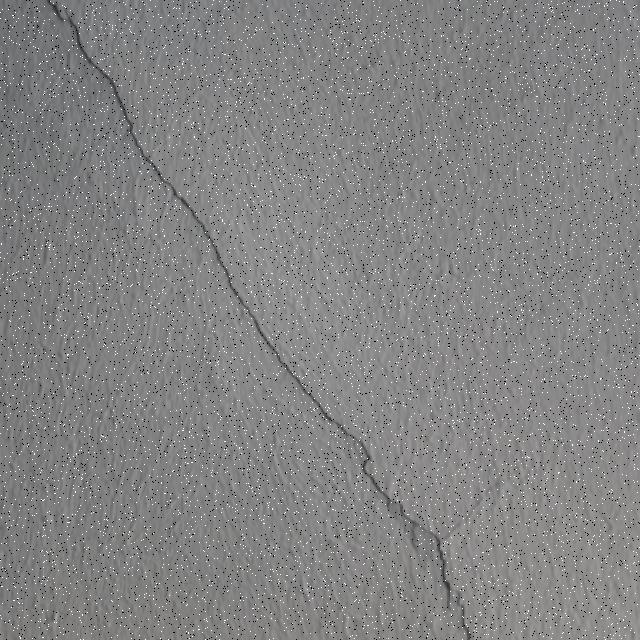minor crack: (44, 0, 91, 52)
moderate crack: (357, 447, 404, 522), (427, 528, 462, 626)
severe crack: (22, 2, 459, 634), (43, 9, 182, 206), (228, 292, 372, 468), (408, 524, 424, 554)
